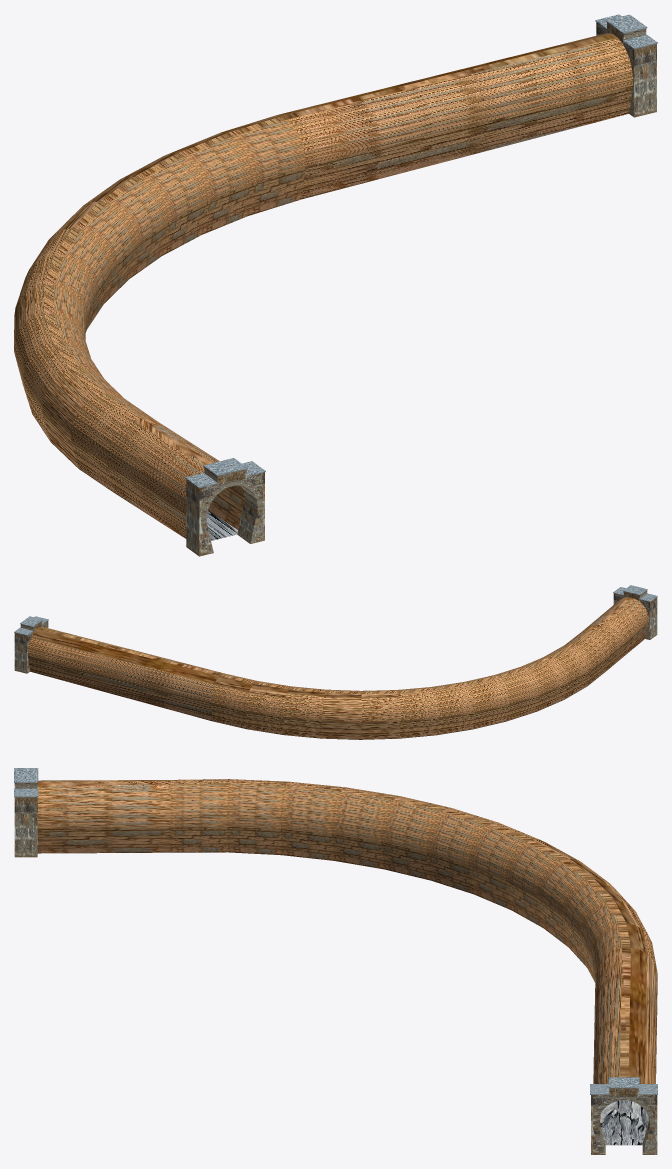
File: GMLID_BUI142242_863_347.dae
The picture shows the model from 3 angles, top to bottom: view 1: azimuth 30°, elevation 25°; view 2: azimuth 150°, elevation 25°; view 3: azimuth 270°, elevation 25°; orthographic projection. The views are drawn at different scales.
Bounding box in the file's own units: 130 × 105 × 14.61.
4 materials, 4 textured.
